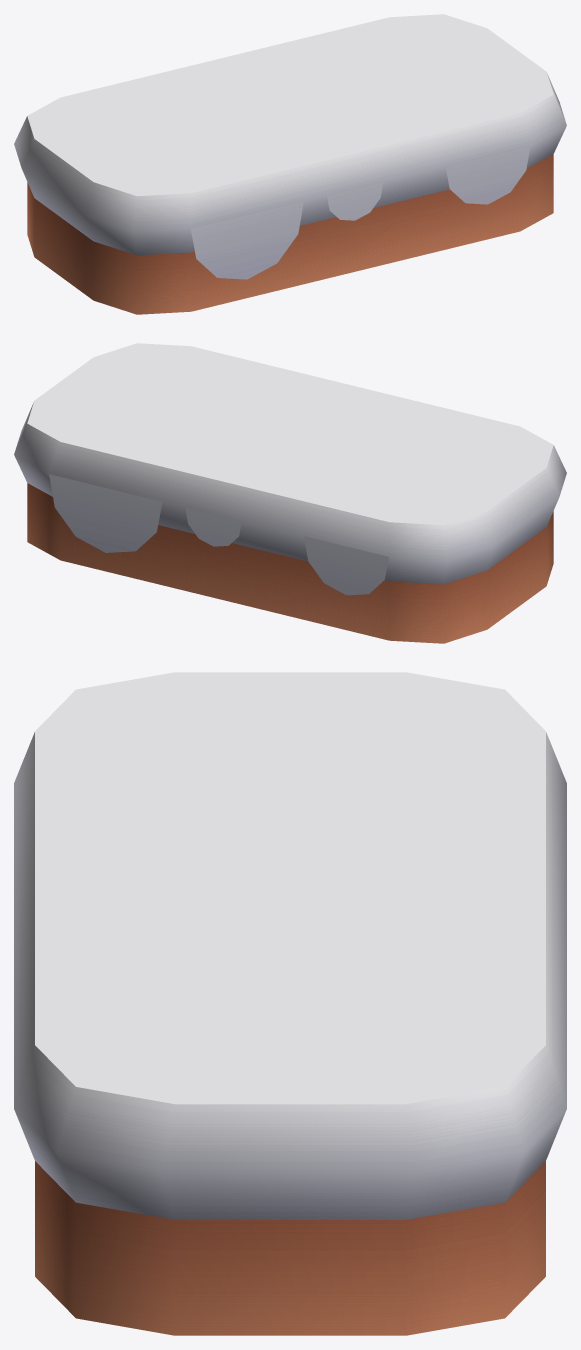
The model's file is block-snow-overhang-low-long.glb.
3 views of the same model, one above another, from view 1: azimuth 30°, elevation 25°; view 2: azimuth 150°, elevation 25°; view 3: azimuth 270°, elevation 25° (orthographic). The views are drawn at different scales.
Visible parts, largest first — view 1: block-snow-overhang-low-long; view 2: block-snow-overhang-low-long; view 3: block-snow-overhang-low-long.
Boxes of the visible parts, left/top/right/bottom form: block-snow-overhang-low-long: left=14, top=14, right=566, bottom=314; block-snow-overhang-low-long: left=14, top=343, right=566, bottom=643; block-snow-overhang-low-long: left=14, top=672, right=566, bottom=1335.
Bounding box in the file's own units: 2.08 × 0.5 × 1.08.
Materials: 1 (1 with a texture image).
